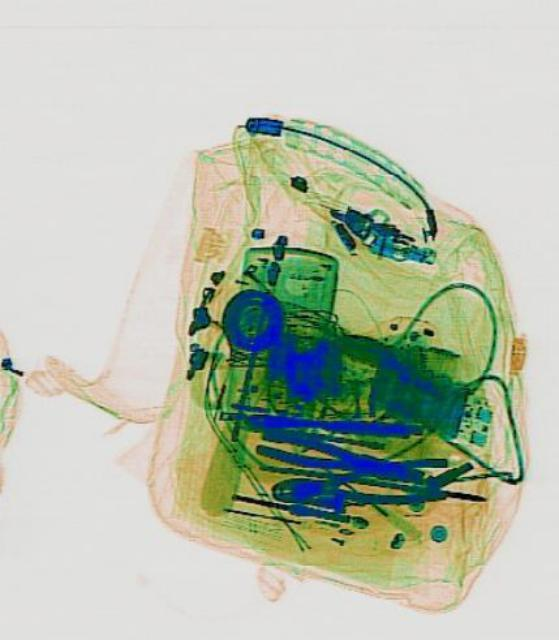Pliers: (253, 420, 422, 494), (268, 455, 447, 513)
